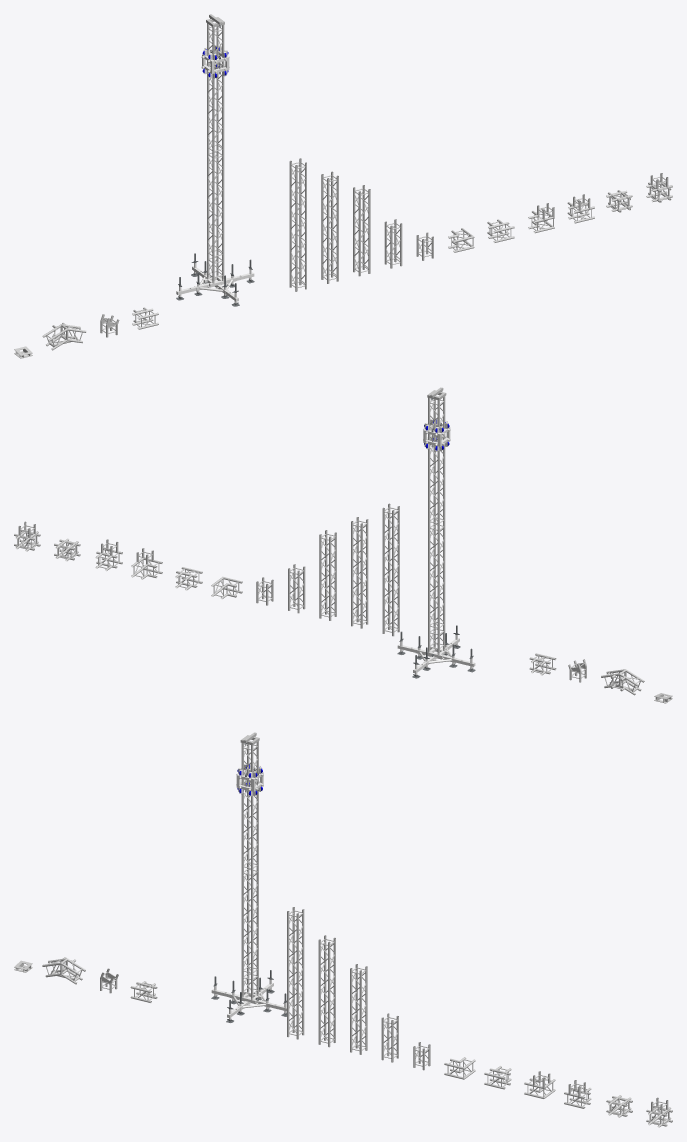
The model's file is Eurotruss_FD_HD34_Accesories-68a9de9e.glb.
The picture shows the model from 3 angles, top to bottom: view 1: azimuth 30°, elevation 25°; view 2: azimuth 150°, elevation 25°; view 3: azimuth 330°, elevation 25°; orthographic projection.
Parts seen in each view (by area): view 1: object 5, object 91, object 1, object 87, object 2, object 3, object 101, object 119; view 2: object 5, object 91, object 1, object 87, object 2, object 3, object 101, object 142, object 10, object 119, object 85; view 3: object 5, object 91, object 1, object 87, object 2, object 3.
Part boxes in pixels (bbox=[...]): object 5: bbox=[289, 158, 306, 291]; object 91: bbox=[207, 25, 224, 155]; object 1: bbox=[321, 171, 338, 283]; object 87: bbox=[207, 149, 224, 260]; object 2: bbox=[353, 185, 370, 276]; object 3: bbox=[384, 219, 402, 268]; object 101: bbox=[201, 45, 229, 78]; object 119: bbox=[646, 173, 672, 202]; object 5: bbox=[382, 503, 399, 636]; object 91: bbox=[428, 398, 445, 527]; object 1: bbox=[351, 517, 368, 628]; object 87: bbox=[428, 521, 445, 631]; object 2: bbox=[319, 530, 336, 620]; object 3: bbox=[288, 564, 305, 613]; object 101: bbox=[423, 418, 450, 451]; object 142: bbox=[131, 548, 162, 579]; object 10: bbox=[95, 539, 122, 571]; object 119: bbox=[14, 521, 40, 551]; object 85: bbox=[415, 645, 456, 667]; object 5: bbox=[287, 907, 304, 1039]; object 91: bbox=[241, 743, 258, 872]; object 1: bbox=[318, 935, 335, 1047]; object 87: bbox=[241, 866, 258, 976]; object 2: bbox=[350, 964, 367, 1054]; object 3: bbox=[381, 1013, 398, 1062].
Bounding box in the file's own units: 16.29 × 6.48 × 1.91.
9 materials, 3 textured.
